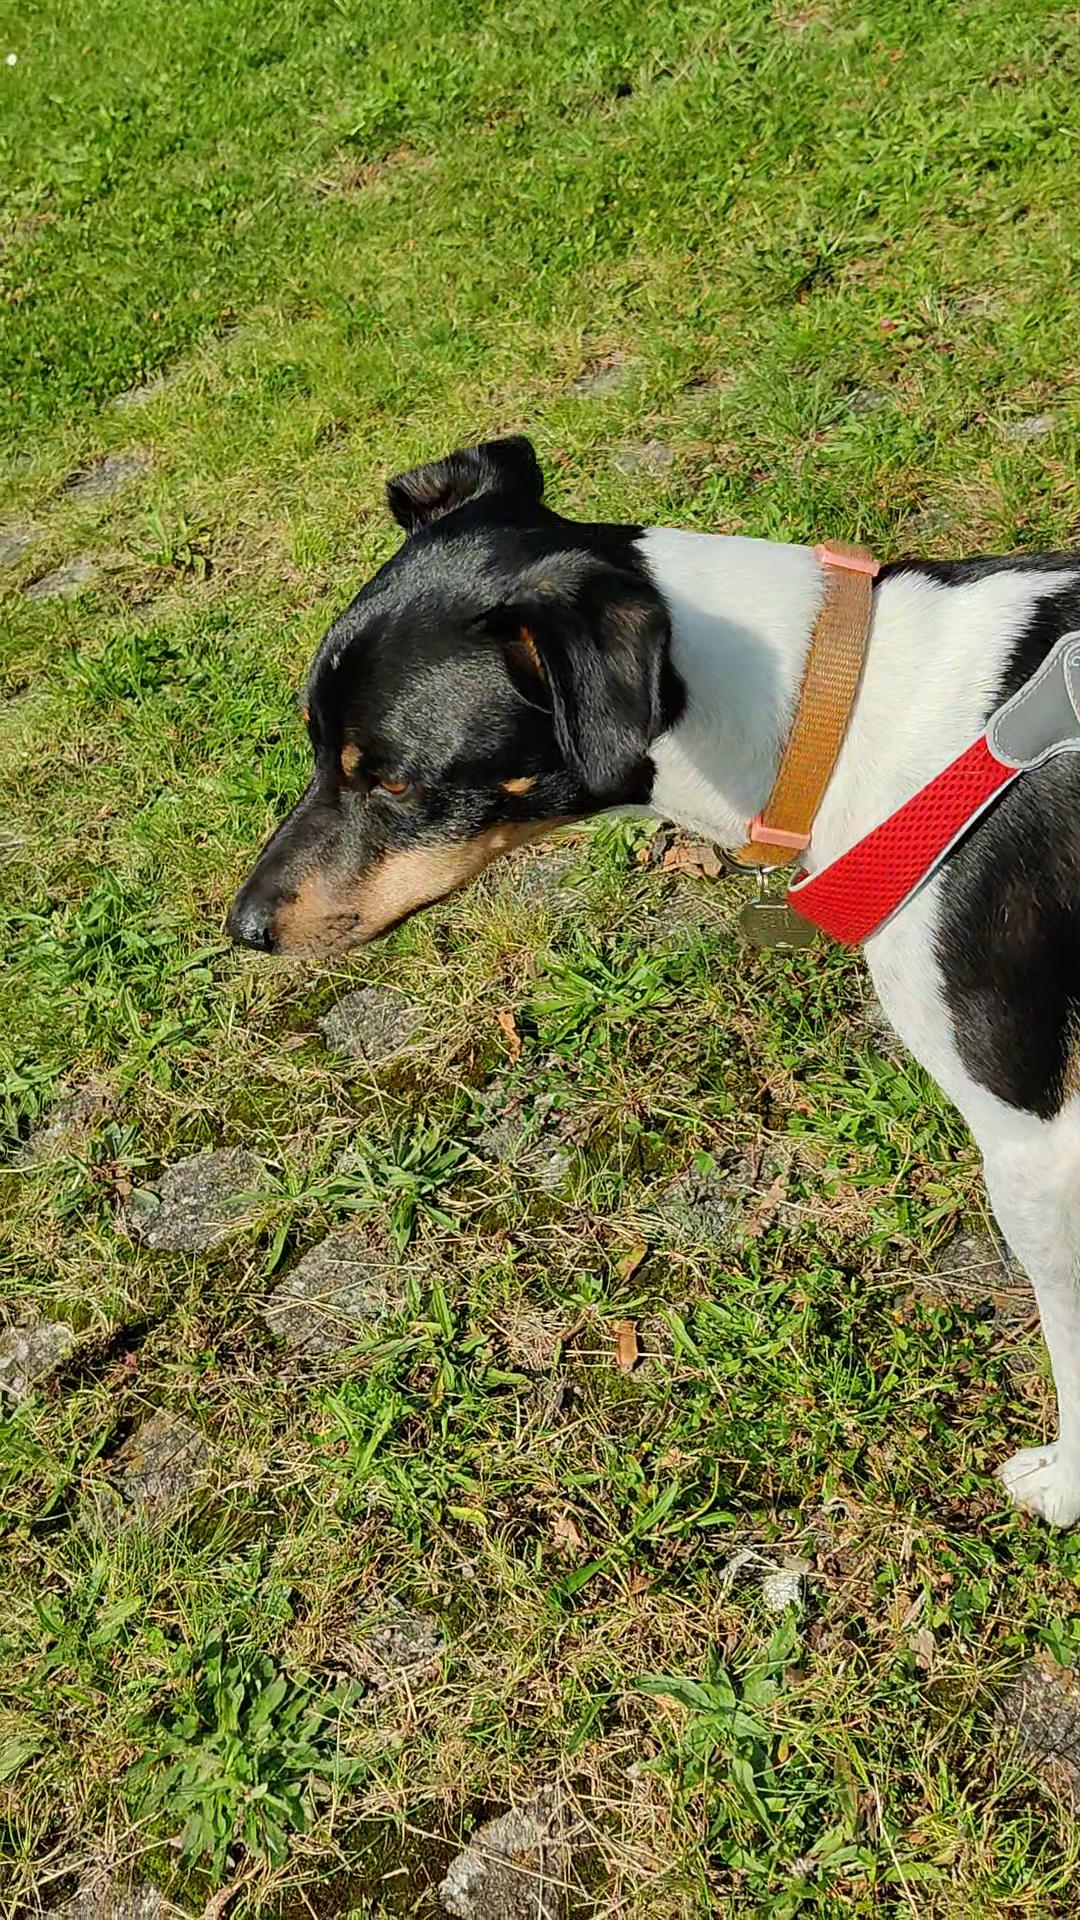Dog: (204, 425, 1079, 1539)
